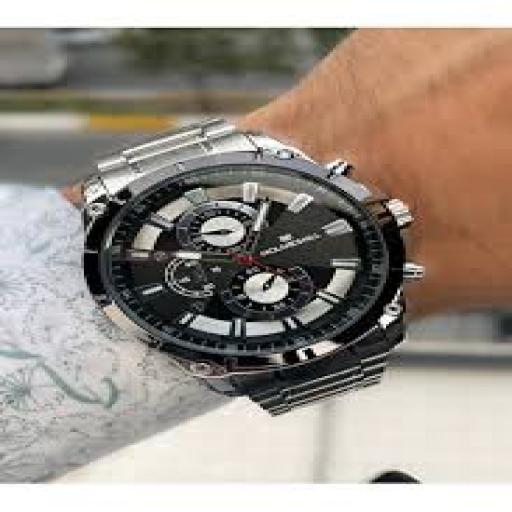KolSaati: (62, 102, 456, 438)
